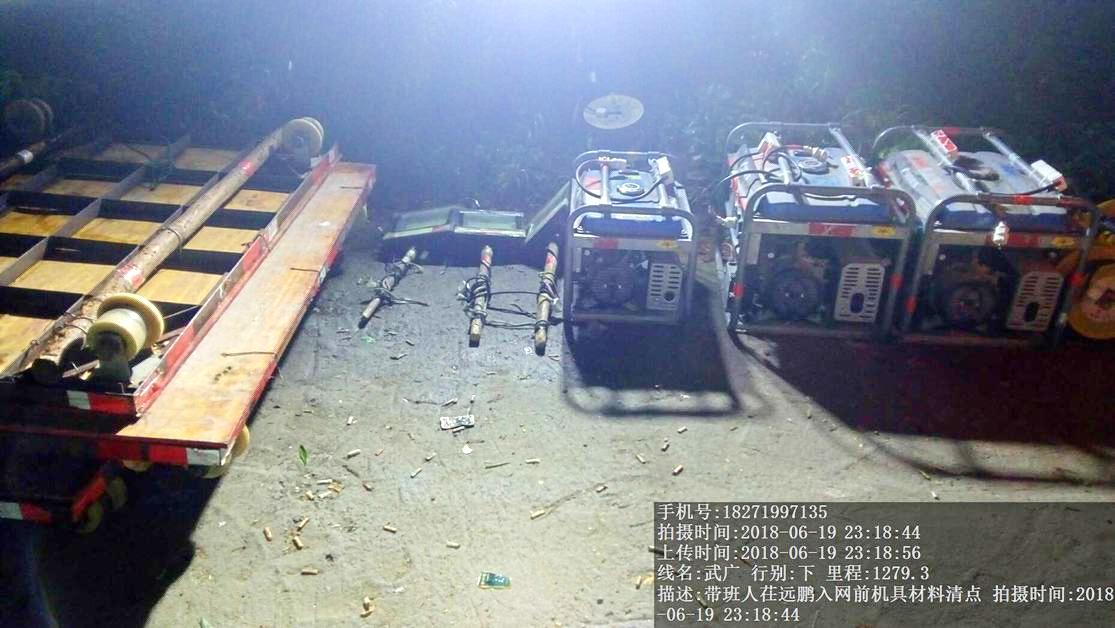DJ: (715, 128, 901, 343), (901, 122, 1072, 345), (551, 143, 711, 331)
